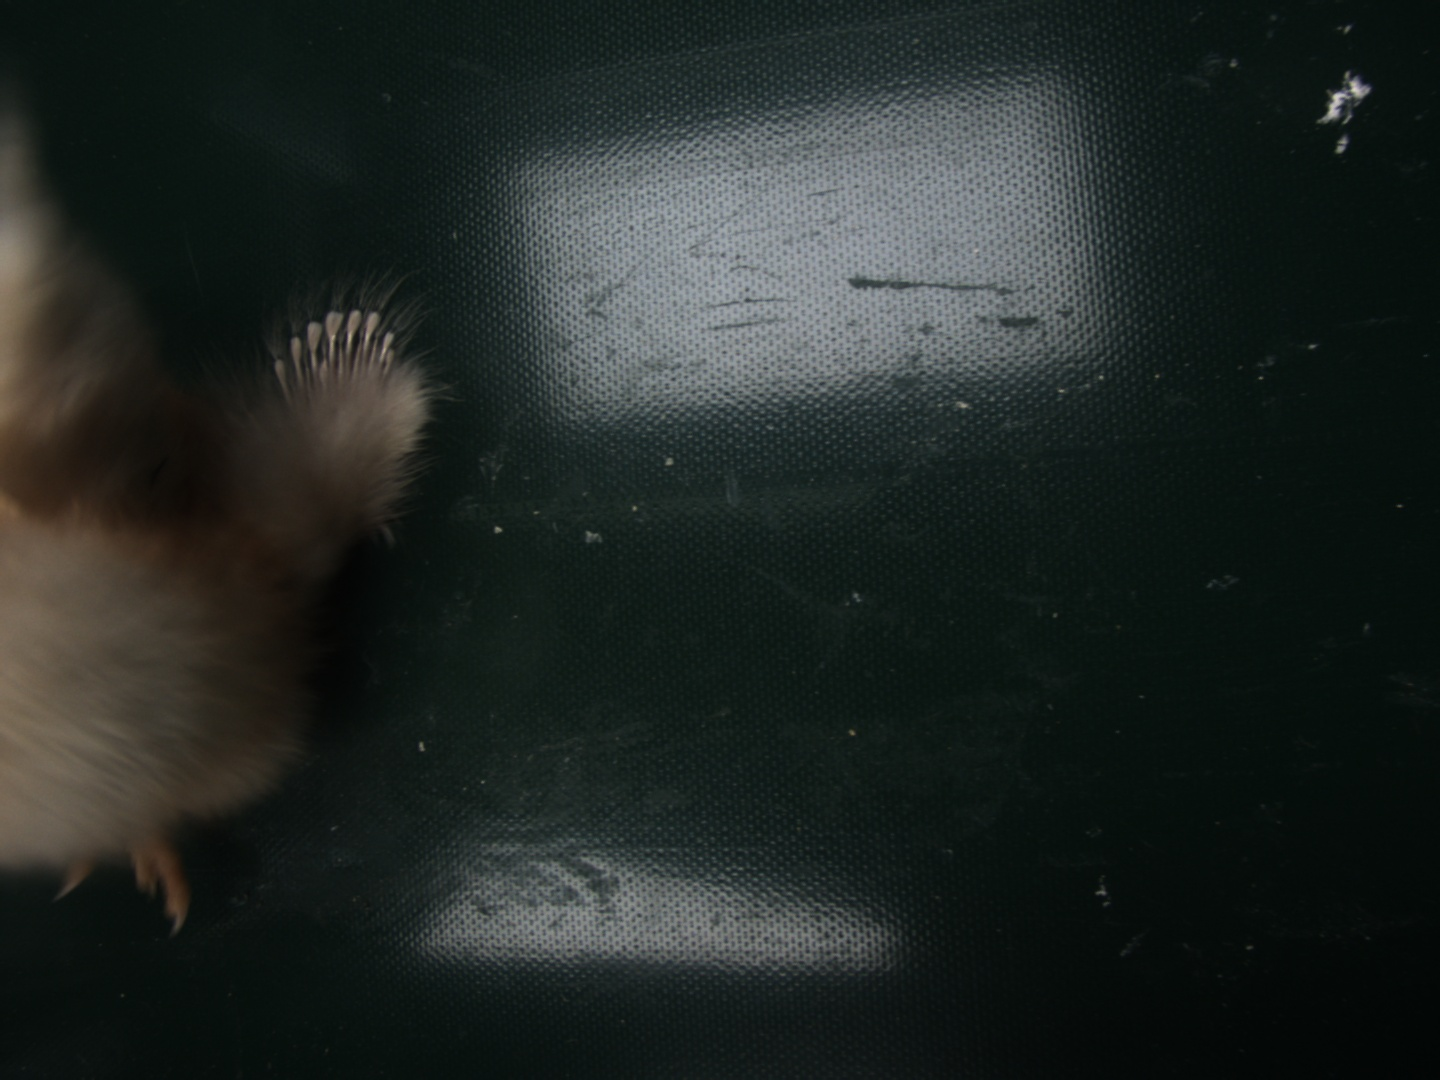female: (268, 304, 397, 406)
